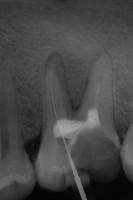Dental Caries: (45, 49, 89, 109)
